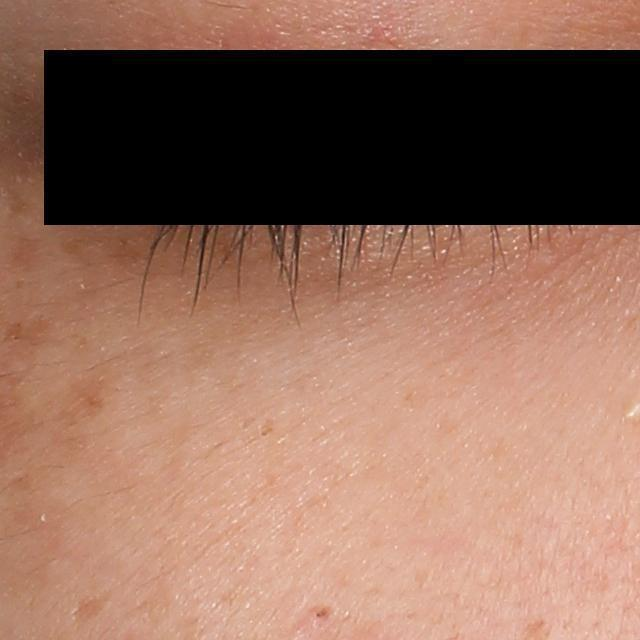atrophic_scar: (59, 586, 116, 628)
melasma: (53, 225, 157, 279), (6, 235, 49, 274)
